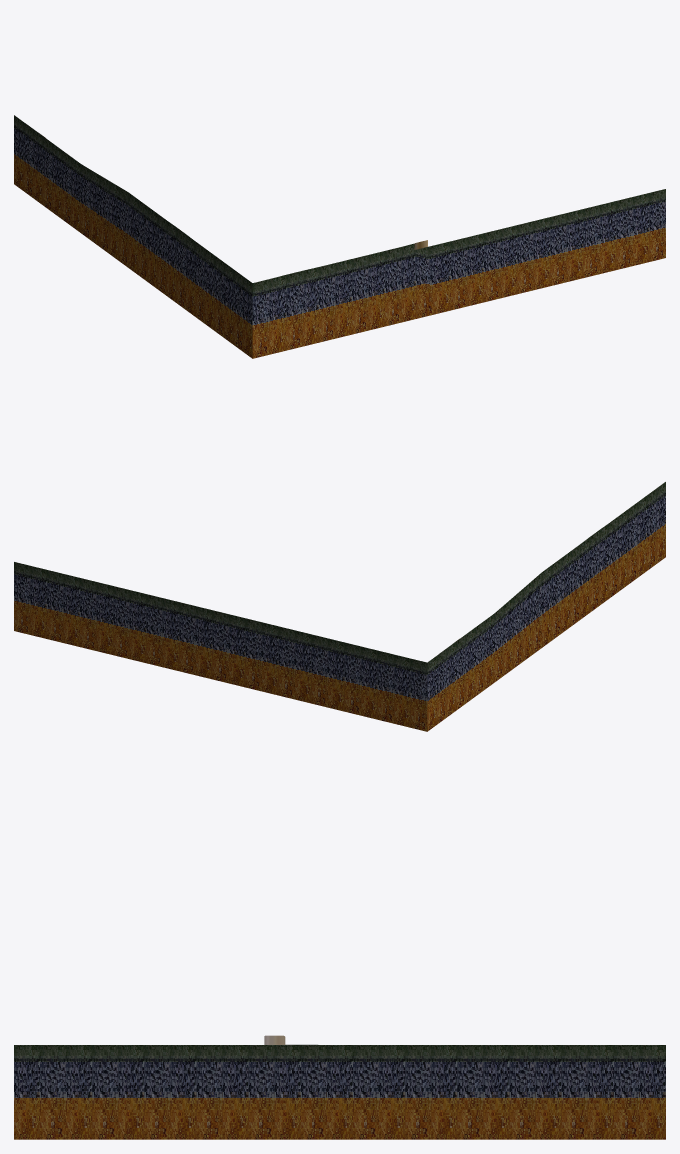
The picture shows the model from 3 angles, top to bottom: view 1: azimuth 30°, elevation 25°; view 2: azimuth 150°, elevation 25°; view 3: azimuth 270°, elevation 25°; orthographic projection. The views are drawn at different scales.
Visible parts, largest first — view 1: Joint_0_Object_0; view 2: Joint_0_Object_0; view 3: Joint_0_Object_0.
Boxes of the visible parts, x1,y1,x2,y2 form: Joint_0_Object_0: [14, 115, 665, 358]; Joint_0_Object_0: [14, 482, 665, 731]; Joint_0_Object_0: [14, 1045, 665, 1139].
Bounding box in the file's own units: 10000 × 1760 × 10000.
Materials: 3 (3 with a texture image).
